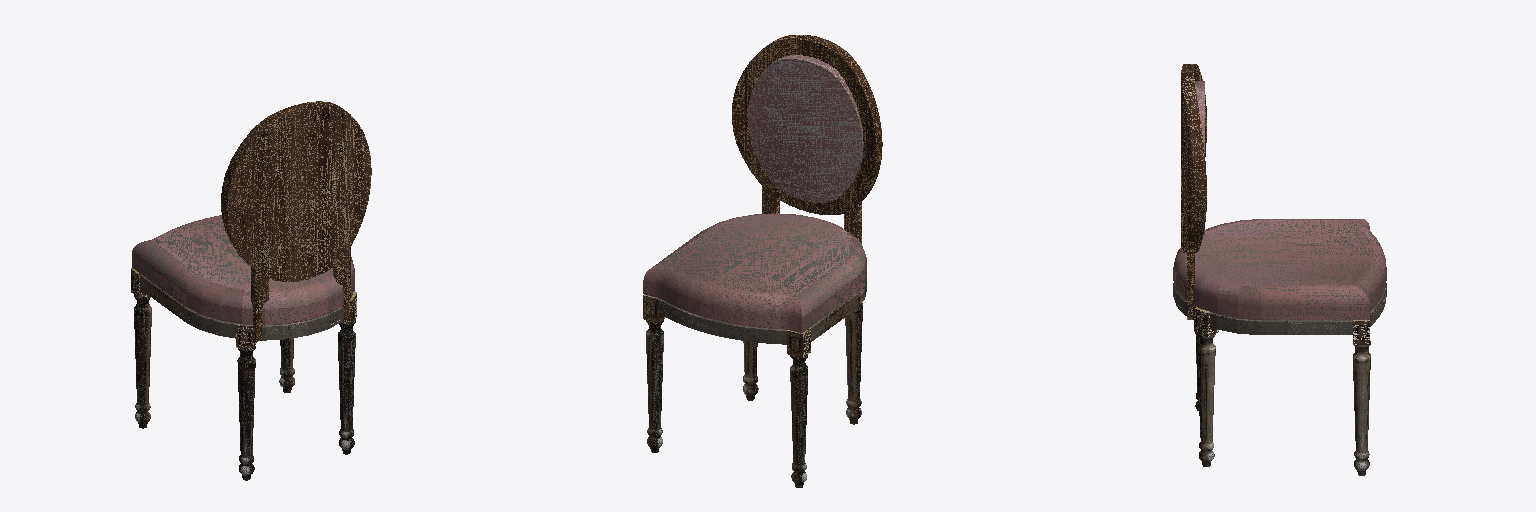
3 views of the same model, side by side, from view 1: azimuth 30°, elevation 25°; view 2: azimuth 150°, elevation 25°; view 3: azimuth 270°, elevation 25° (orthographic).
Parts seen in each view (by area): view 1: mesh11_mesh11-geometry, mesh3_mesh3-geometry, mesh8_mesh8-geometry, mesh6_mesh6-geometry, mesh9_mesh9-geometry, mesh1_mesh1-geometry, mesh2_mesh2-geometry, mesh7_mesh7-geometry; view 2: mesh3_mesh3-geometry, mesh10_mesh10-geometry, mesh11_mesh11-geometry, mesh6_mesh6-geometry, mesh7_mesh7-geometry, mesh8_mesh8-geometry, mesh9_mesh9-geometry; view 3: mesh3_mesh3-geometry, mesh11_mesh11-geometry, mesh9_mesh9-geometry, mesh7_mesh7-geometry.
Boxes of the visible parts, <box> form: mesh11_mesh11-geometry: <box>221,101,371,281</box>; mesh3_mesh3-geometry: <box>132,215,354,340</box>; mesh8_mesh8-geometry: <box>236,324,256,480</box>; mesh6_mesh6-geometry: <box>131,268,151,428</box>; mesh9_mesh9-geometry: <box>338,292,356,454</box>; mesh1_mesh1-geometry: <box>251,267,268,341</box>; mesh2_mesh2-geometry: <box>333,247,350,319</box>; mesh7_mesh7-geometry: <box>279,338,294,392</box>; mesh3_mesh3-geometry: <box>643,213,866,344</box>; mesh10_mesh10-geometry: <box>748,55,863,202</box>; mesh11_mesh11-geometry: <box>732,35,882,214</box>; mesh6_mesh6-geometry: <box>787,328,810,487</box>; mesh7_mesh7-geometry: <box>643,295,665,452</box>; mesh8_mesh8-geometry: <box>845,303,862,424</box>; mesh9_mesh9-geometry: <box>743,341,758,400</box>; mesh3_mesh3-geometry: <box>1173,219,1386,334</box>; mesh11_mesh11-geometry: <box>1181,64,1206,252</box>; mesh9_mesh9-geometry: <box>1194,307,1218,466</box>; mesh7_mesh7-geometry: <box>1353,320,1370,475</box>.
Size of the model in its own units: 0.375 by 0.8202 by 0.432.
Materials: 17 (15 with a texture image).